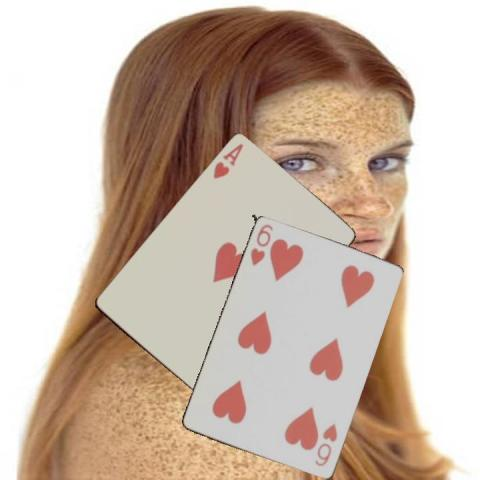6h: (312, 421, 340, 468), (247, 222, 274, 268)
Ah: (210, 140, 245, 180)
